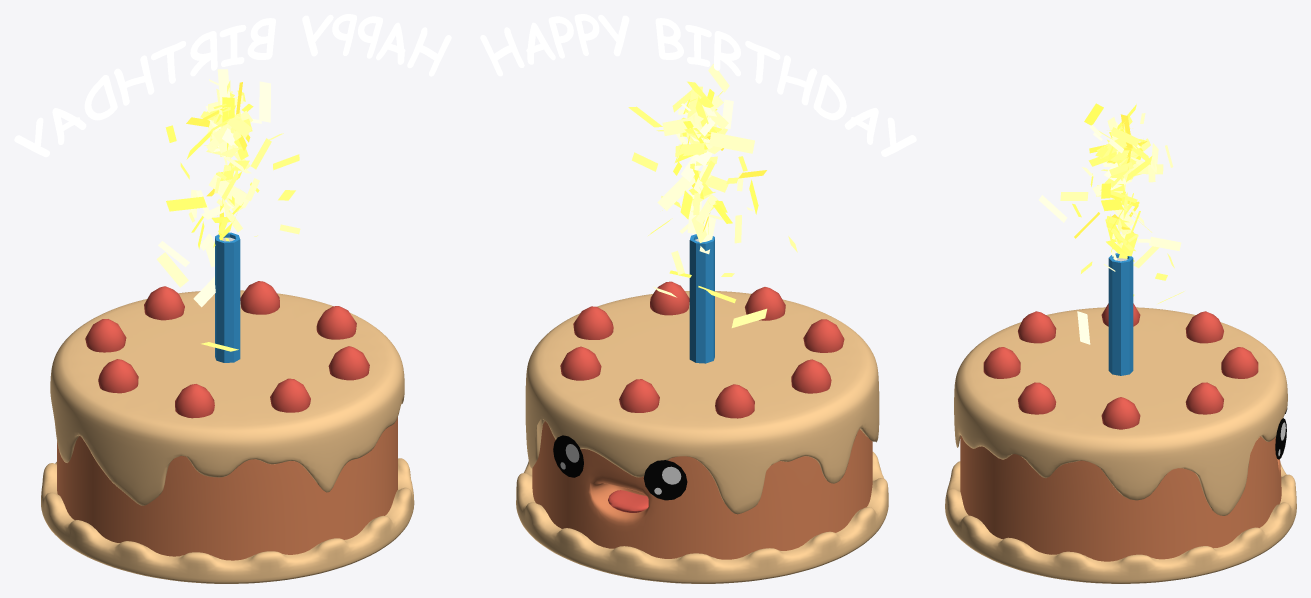
3 views of the same model, side by side, from view 1: azimuth 30°, elevation 25°; view 2: azimuth 150°, elevation 25°; view 3: azimuth 270°, elevation 25° (orthographic). The views are drawn at different scales.
Visible parts, largest first — view 1: icing, Circle, Circle.004, Plane.014, Icosphere, Text, Cylinder; view 2: icing, Circle, Circle.004, Plane.014, Icosphere, Text, Cylinder, Circle.002, Circle.001, Circle.003; view 3: icing, Circle, Circle.004, Plane.014, Icosphere, Cylinder.
Boxes of the visible parts, <box> form: icing: <box>50,290,404,505</box>; Circle: <box>57,417,397,560</box>; Circle.004: <box>41,458,414,583</box>; Plane.014: <box>156,69,300,351</box>; Icosphere: <box>85,281,369,418</box>; Text: <box>14,14,451,157</box>; Cylinder: <box>215,232,240,362</box>; icing: <box>525,291,879,514</box>; Circle: <box>532,421,872,559</box>; Circle.004: <box>516,452,888,583</box>; Plane.014: <box>628,64,797,327</box>; Icosphere: <box>560,281,844,418</box>; Text: <box>480,14,916,156</box>; Cylinder: <box>689,234,714,363</box>; Circle.002: <box>643,460,687,500</box>; Circle.001: <box>553,435,583,477</box>; Circle.003: <box>608,490,648,512</box>; icing: <box>954,307,1287,515</box>; Circle: <box>960,436,1281,561</box>; Circle.004: <box>945,461,1296,583</box>; Plane.014: <box>1039,103,1184,344</box>; Icosphere: <box>983,303,1258,429</box>; Cylinder: <box>1108,253,1133,375</box>.
Bounding box in the file's own units: 2.94 × 3.1 × 2.18.
